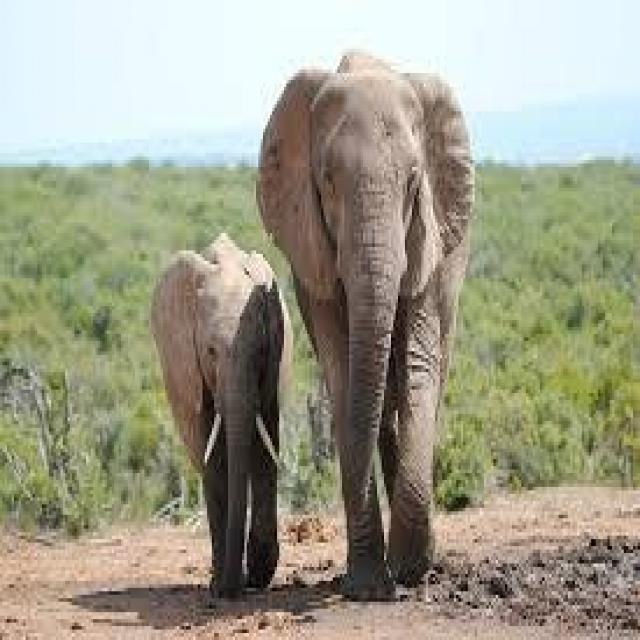Elephant: (249, 45, 477, 598), (144, 233, 303, 595)
